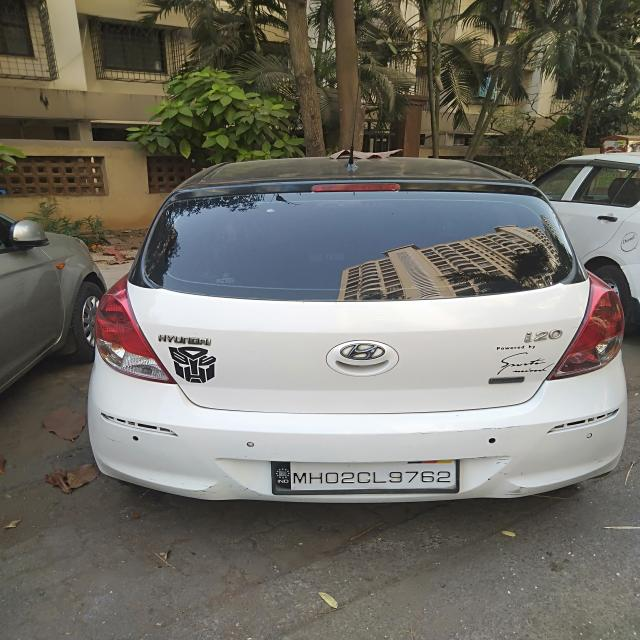Number-Plate: (275, 461, 456, 491)
